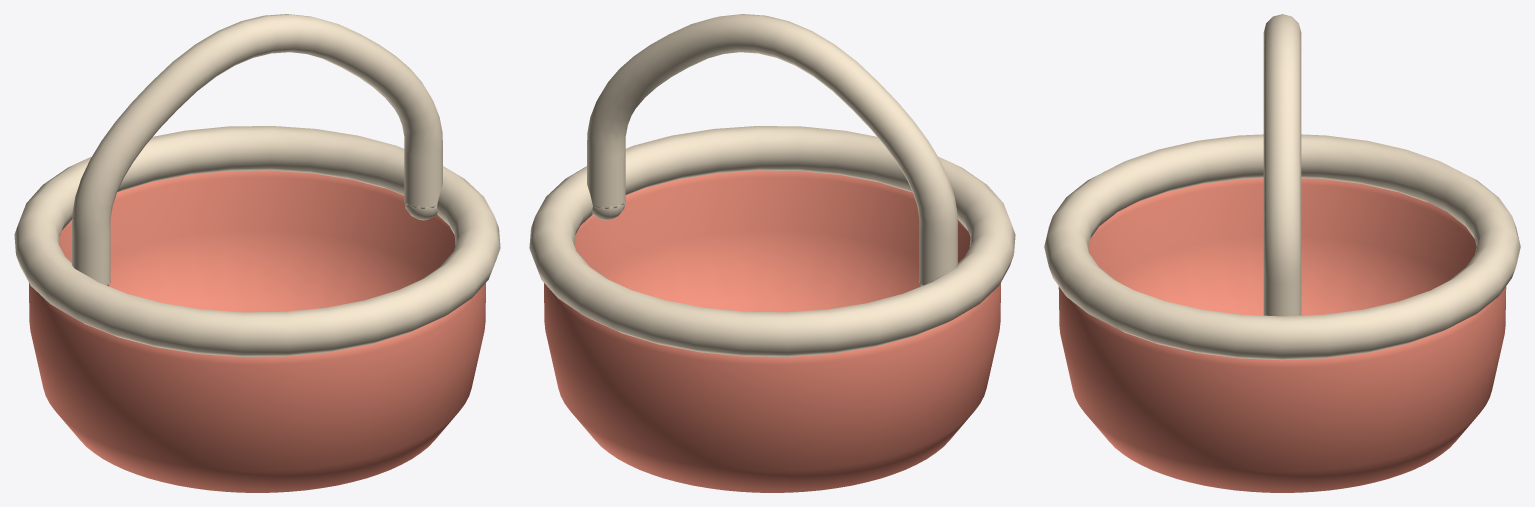
The model's file is basket_b.glb.
The picture shows the model from 3 angles, left to right: view 1: azimuth 30°, elevation 25°; view 2: azimuth 150°, elevation 25°; view 3: azimuth 270°, elevation 25°; orthographic projection. The views are drawn at different scales.
Parts seen in each view (by area): view 1: body; view 2: body; view 3: body.
Boxes of the visible parts, x1,y1,x2,y2 form: body: (14,14,500,492); body: (529,14,1015,492); body: (1044,14,1520,492).
Size of the model in its own units: 0.3024 by 0.282 by 0.3024.
